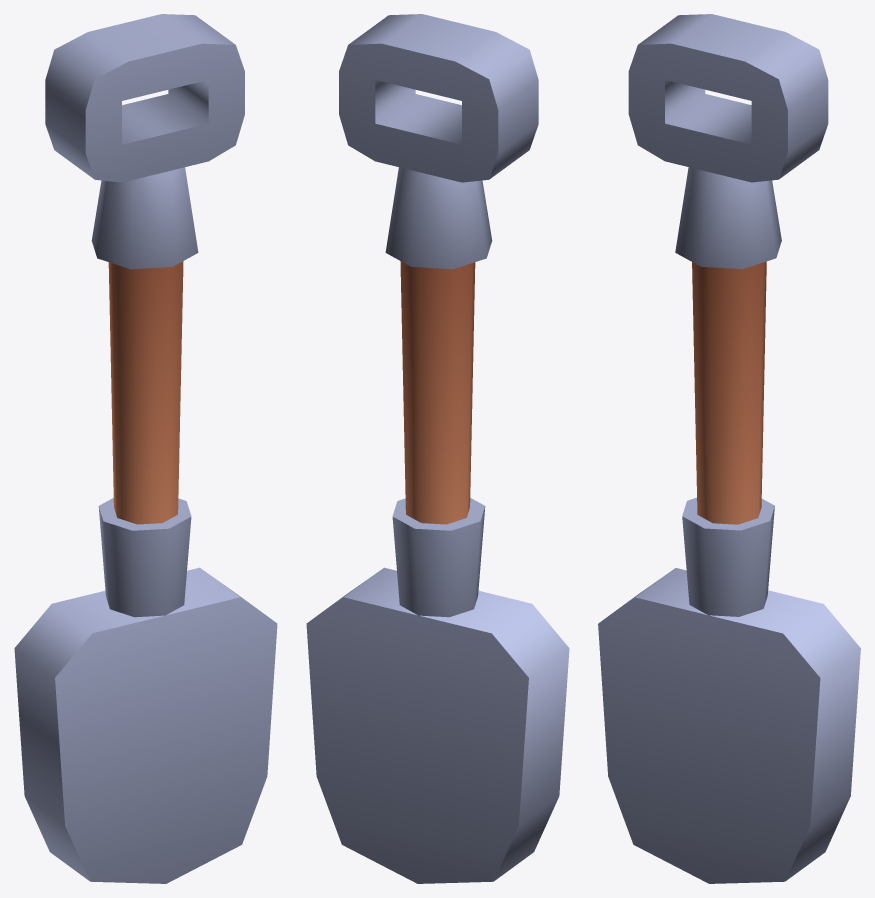
Rendered from tool-shovel.glb.
3 views of the same model, side by side, from view 1: azimuth 30°, elevation 25°; view 2: azimuth 150°, elevation 25°; view 3: azimuth 330°, elevation 25° (orthographic).
Parts seen in each view (by area): view 1: tool-shovel; view 2: tool-shovel; view 3: tool-shovel.
Boxes of the visible parts, left/top/right/bottom form: tool-shovel: left=14, top=14, right=277, bottom=883; tool-shovel: left=306, top=14, right=569, bottom=883; tool-shovel: left=598, top=14, right=860, bottom=883.
Size of the model in its own units: 0.6578 by 2.35 by 0.2829.
Materials: 1 (1 with a texture image).
